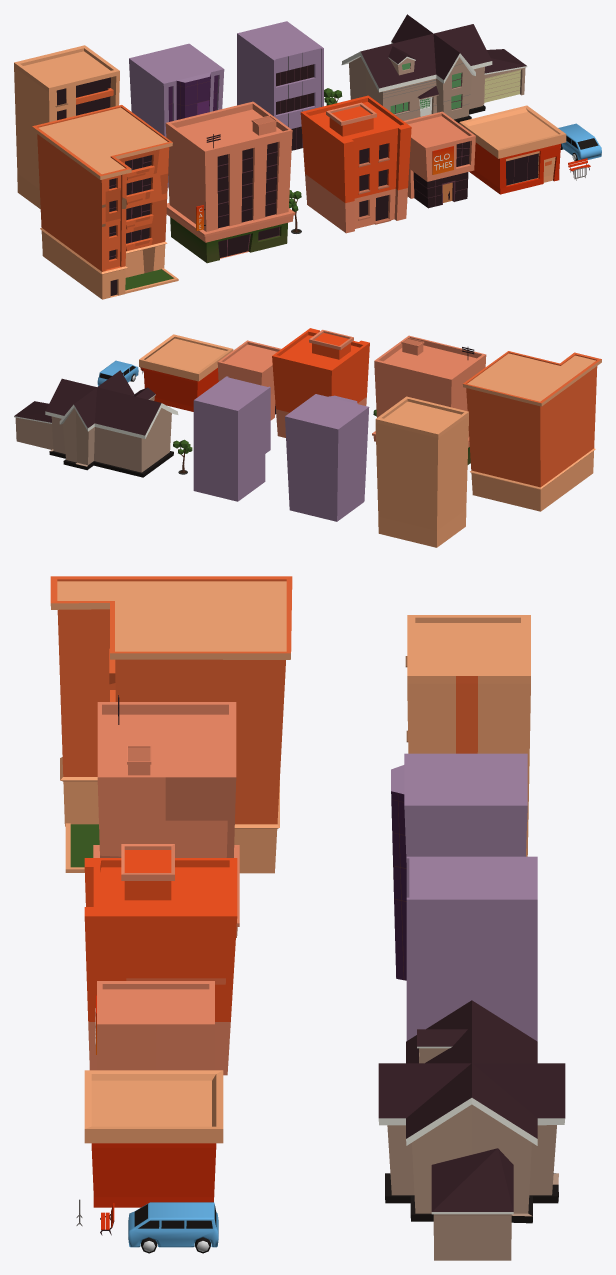
The model's file is citty_assets_-_lahiru_aravinthakumar.glb.
3 renders of one model, top to bottom at view 1: azimuth 30°, elevation 25°; view 2: azimuth 150°, elevation 25°; view 3: azimuth 270°, elevation 25°, orthographic. The views are drawn at different scales.
Parts seen in each view (by area): view 1: Cube, Cube.002, Cube.008, Cube.042, Cube.040, Cube.022, Cube.021, Cube.041, Cube.016, Cube.023, Cube.007, Cube.025 (+6 smaller); view 2: Cube, Cube.042, Cube.041, Cube.040, Cube.022, Cube.008, Cube.002, Cube.021, Cube.023, Cube.016, Cube.025, Cube.056; view 3: Cube, Cube.040, Cube.008, Cube.002, Cube.021, Cube.042, Cube.022, Cube.041, Cube.023, Cube.016, Cube.025, Cube.056 (+2 smaller).
Part boxes in pixels (box(x1,y1,x2,y2)): Cube: box(32, 105, 172, 299); Cube.002: box(165, 101, 295, 263); Cube.008: box(300, 95, 411, 233); Cube.042: box(14, 45, 119, 208); Cube.040: box(237, 21, 323, 150); Cube.022: box(341, 24, 492, 120); Cube.021: box(459, 105, 566, 194); Cube.041: box(129, 43, 224, 187); Cube.016: box(403, 111, 475, 198); Cube.023: box(391, 14, 475, 123); Cube.007: box(217, 142, 277, 228); Cube.025: box(483, 49, 527, 104); Cube: box(462, 351, 601, 511); Cube.042: box(375, 396, 468, 547); Cube.041: box(285, 394, 369, 521); Cube.040: box(193, 376, 270, 501); Cube.022: box(45, 378, 178, 477); Cube.008: box(272, 328, 369, 437); Cube.002: box(372, 335, 486, 464); Cube.021: box(139, 334, 233, 411); Cube.023: box(59, 370, 134, 470); Cube.016: box(217, 340, 281, 420); Cube.025: box(14, 401, 53, 449); Cube.056: box(97, 360, 138, 386); Cube: box(50, 576, 292, 873); Cube.040: box(406, 856, 537, 1041); Cube.008: box(84, 844, 237, 1075); Cube.002: box(93, 702, 239, 937); Cube.021: box(84, 1070, 223, 1207); Cube.042: box(407, 615, 530, 856); Cube.022: box(406, 1000, 537, 1223); Cube.041: box(391, 753, 527, 980); Cube.023: box(378, 1063, 565, 1203); Cube.016: box(97, 981, 214, 1070); Cube.025: box(431, 1148, 513, 1260); Cube.056: box(128, 1202, 218, 1247).
Size of the model in its own units: 1219 by 284 by 575.
31 materials, 2 textured.
